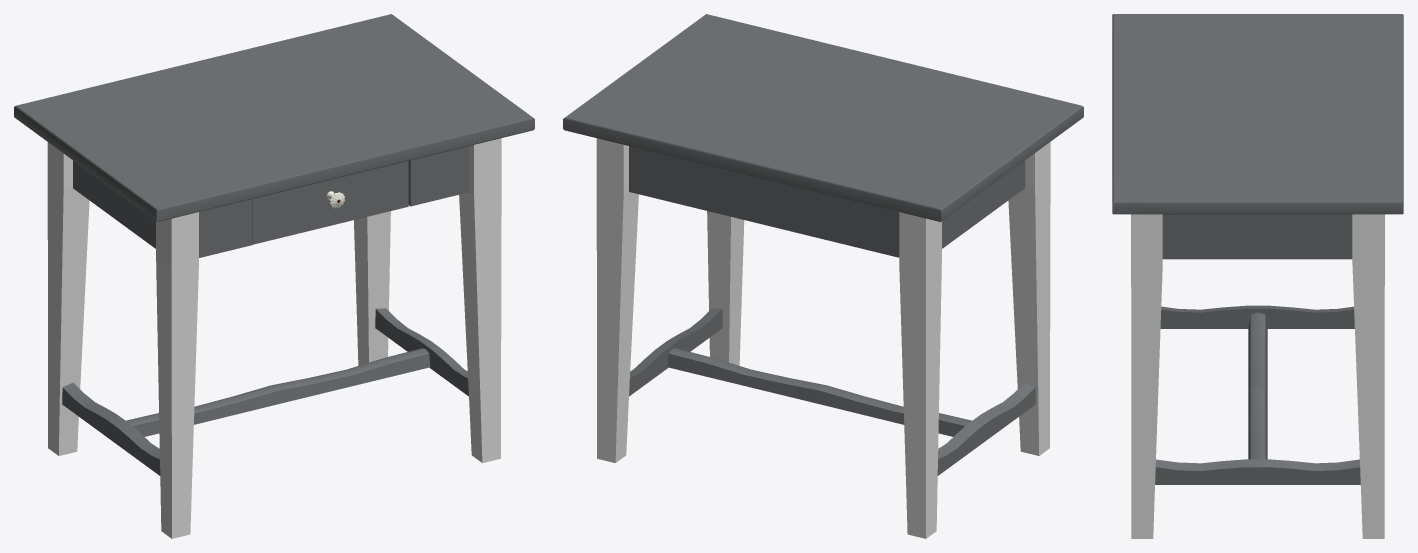
The model's file is Table.fbx.
3 renders of one model, left to right at view 1: azimuth 30°, elevation 25°; view 2: azimuth 150°, elevation 25°; view 3: azimuth 270°, elevation 25°, orthographic. The views are drawn at different scales.
Parts seen in each view (by area): view 1: Table:Board01, Table:Table_body01, Table:Drawer01; view 2: Table:Table_body01, Table:Board01; view 3: Table:Board01, Table:Table_body01.
Part boxes in pixels (box(x1,y1,x2,y2)): Table:Board01: box(14, 14, 534, 221); Table:Table_body01: box(47, 138, 501, 538); Table:Drawer01: box(252, 161, 408, 244); Table:Table_body01: box(596, 138, 1050, 538); Table:Board01: box(563, 14, 1083, 221); Table:Board01: box(1112, 14, 1403, 214); Table:Table_body01: box(1131, 214, 1384, 538).
Bounding box in the file's own units: 92.61 × 79.97 × 60.4.
